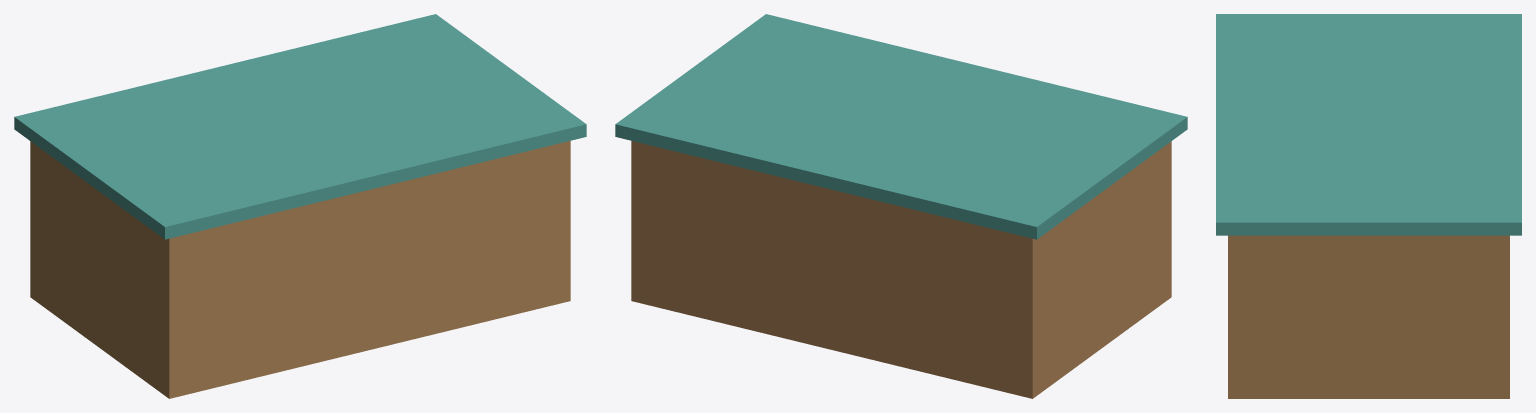
The model's file is regional-market-hall.source.glb.
3 renders of one model, left to right at view 1: azimuth 30°, elevation 25°; view 2: azimuth 150°, elevation 25°; view 3: azimuth 270°, elevation 25°, orthographic.
Parts seen in each view (by area): view 1: regional-market-hall-hall-mesh, regional-market-hall-roof-mesh; view 2: regional-market-hall-hall-mesh, regional-market-hall-roof-mesh; view 3: regional-market-hall-roof-mesh, regional-market-hall-hall-mesh.
Part boxes in pixels (x1,y1,x2,y2): regional-market-hall-hall-mesh: [30, 141, 570, 398]; regional-market-hall-roof-mesh: [14, 14, 586, 239]; regional-market-hall-hall-mesh: [631, 141, 1171, 398]; regional-market-hall-roof-mesh: [615, 14, 1187, 239]; regional-market-hall-roof-mesh: [1216, 14, 1521, 235]; regional-market-hall-hall-mesh: [1228, 235, 1509, 398].
Bounding box in the file's own units: 10.5 × 4.25 × 6.5.
